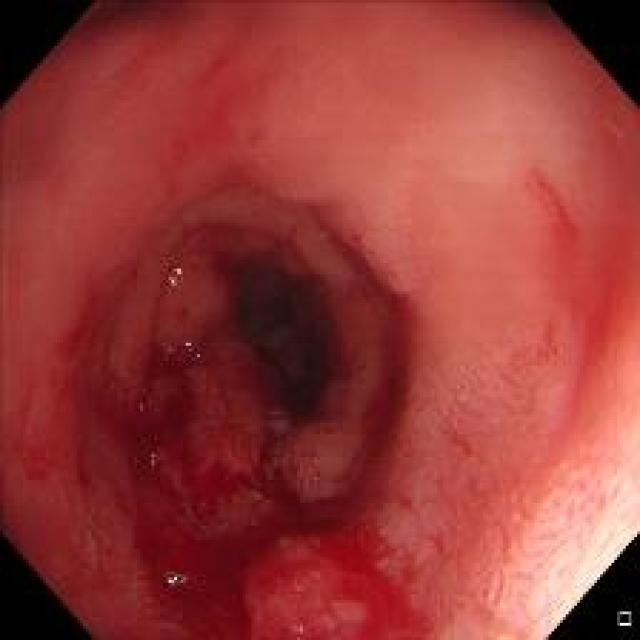blood: (96, 361, 420, 628)
blur: (365, 138, 594, 369)
bubbles: (282, 616, 312, 639)
color misalignment: (156, 566, 198, 598), (159, 258, 186, 290), (144, 442, 169, 475), (181, 338, 195, 352)
contrast: (198, 188, 370, 448)
saturation: (518, 452, 631, 604)
